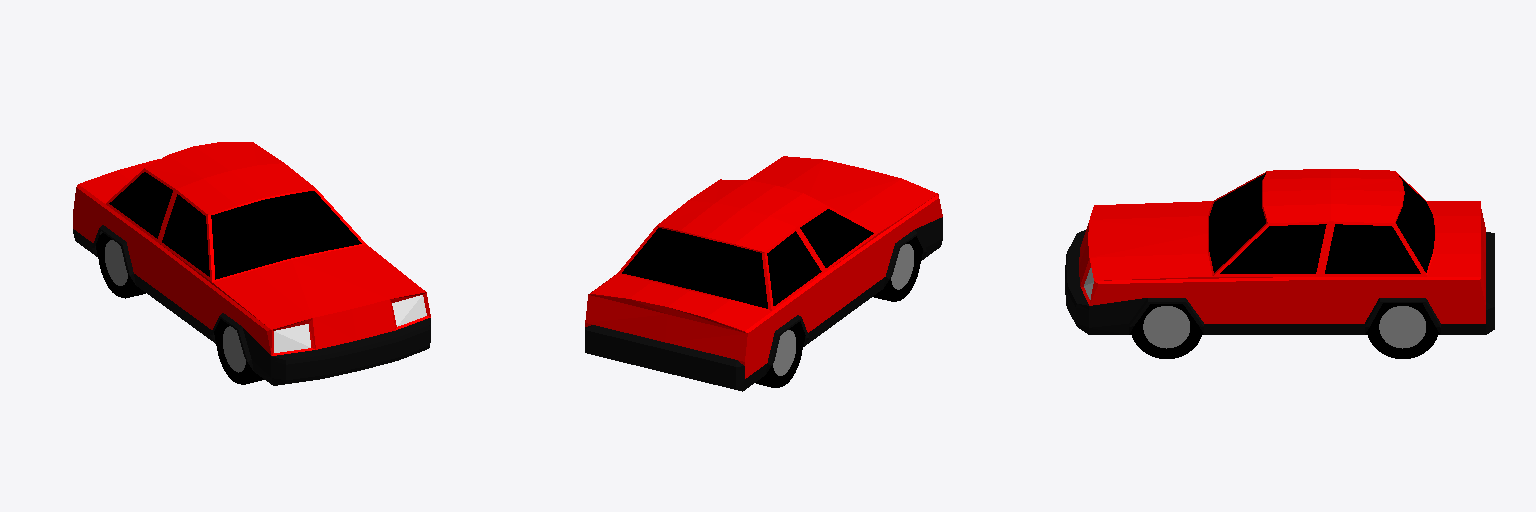
File: Car.obj
3 renders of one model, left to right at view 1: azimuth 30°, elevation 25°; view 2: azimuth 150°, elevation 25°; view 3: azimuth 270°, elevation 25°, orthographic.
Visible parts, largest first — view 1: Car; view 2: Car; view 3: Car.
Part boxes in pixels (x1,y1,x2,y2): Car: (73,142,430,385); Car: (585,156,942,391); Car: (1065,169,1494,358).
Bounding box in the file's own units: 2.1 × 1.59 × 4.67.